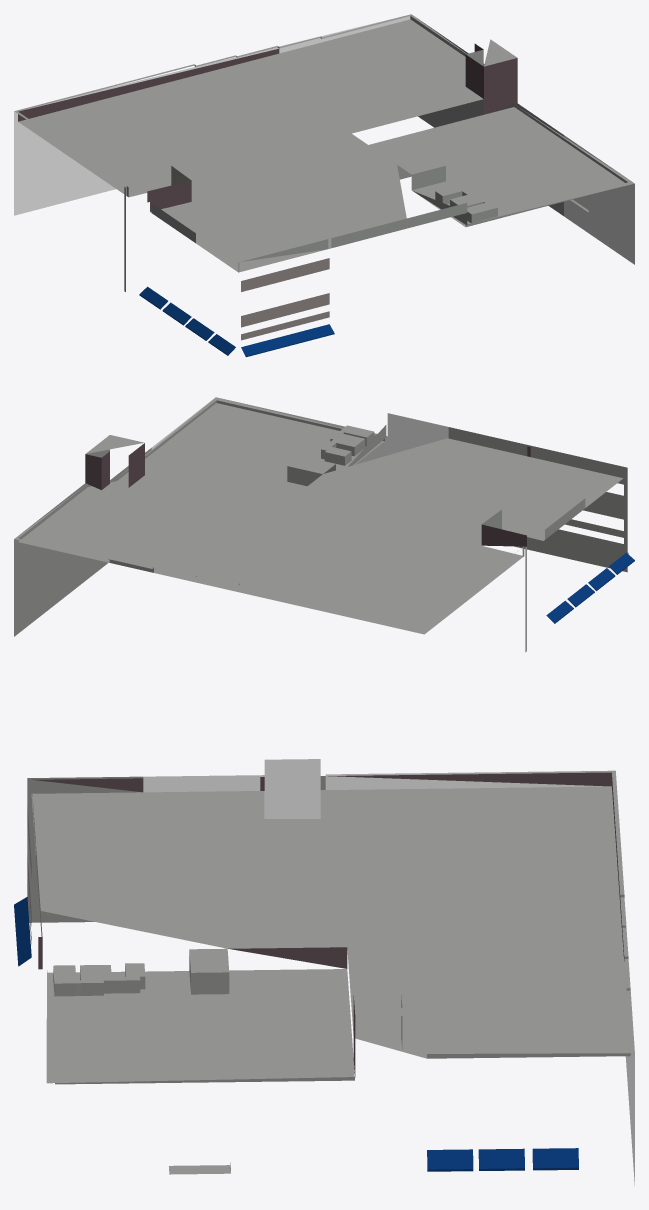
File: 600-broad-street.glb
3 renders of one model, top to bottom at view 1: azimuth 30°, elevation 25°; view 2: azimuth 150°, elevation 25°; view 3: azimuth 270°, elevation 25°, orthographic. The views are drawn at different scales.
Visible parts, largest first — view 1: LOD0; view 2: LOD0; view 3: LOD0.
Boxes of the visible parts, left/top/right/bottom form: LOD0: left=14, top=14, right=634, bottom=357; LOD0: left=14, top=397, right=634, bottom=652; LOD0: left=14, top=759, right=634, bottom=1185.
Size of what is drawn, in the model's own units: 77.14 by 21.87 by 70.09.
Materials: 2 (2 with a texture image).
